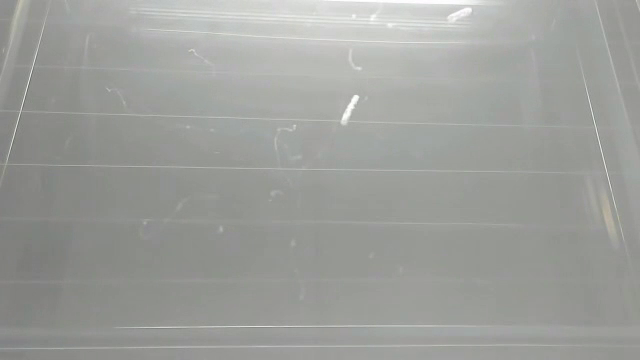alpha: (337, 92, 364, 127), (444, 4, 475, 26)
